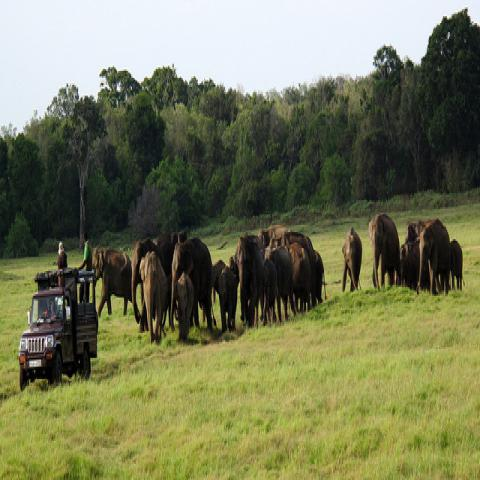car: (18, 268, 99, 394)
truck: (18, 266, 100, 394)
